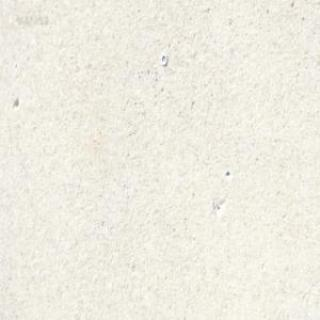Washertrack_idkeyframe: (160, 52, 167, 65)
